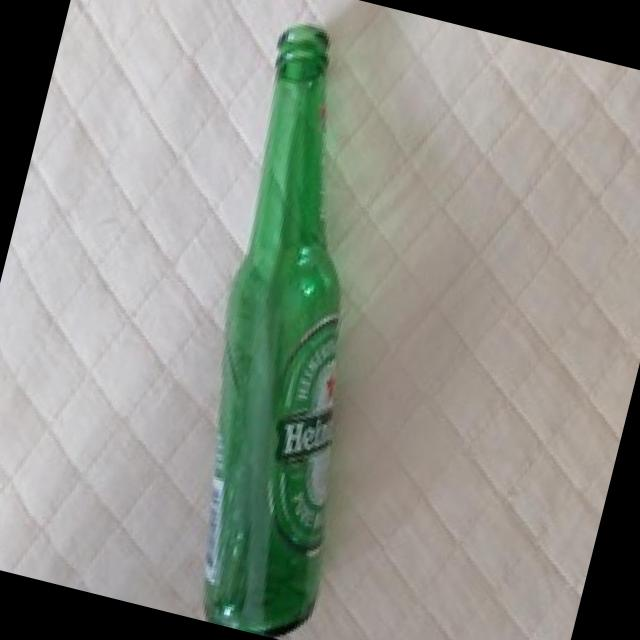BotolKaca: (135, 15, 452, 640)
